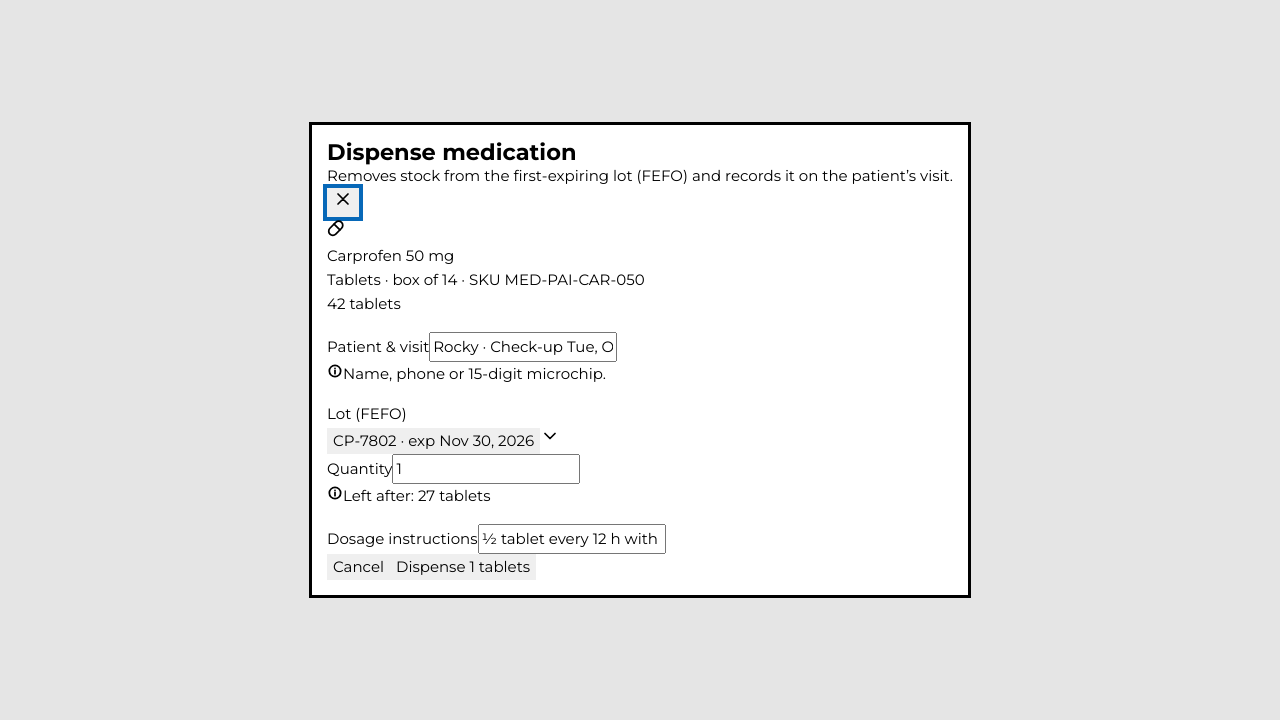
DispenseModal › dispenses, tells it and closes
Click the button "Dispense 1 tablets": (463, 567) [390, 554, 536, 580]
Wait 900 ms
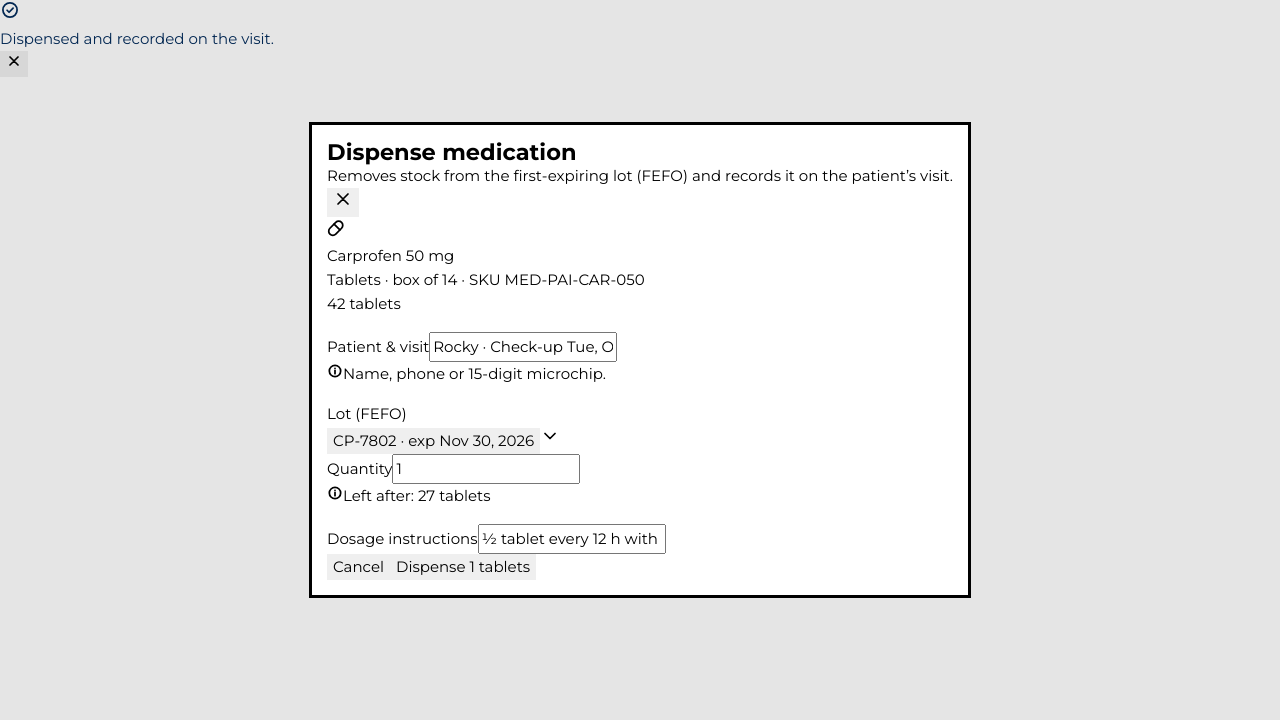
expect the text "Dispensed and recorded on the visit." is shown: met, box [0, 29, 274, 48]
